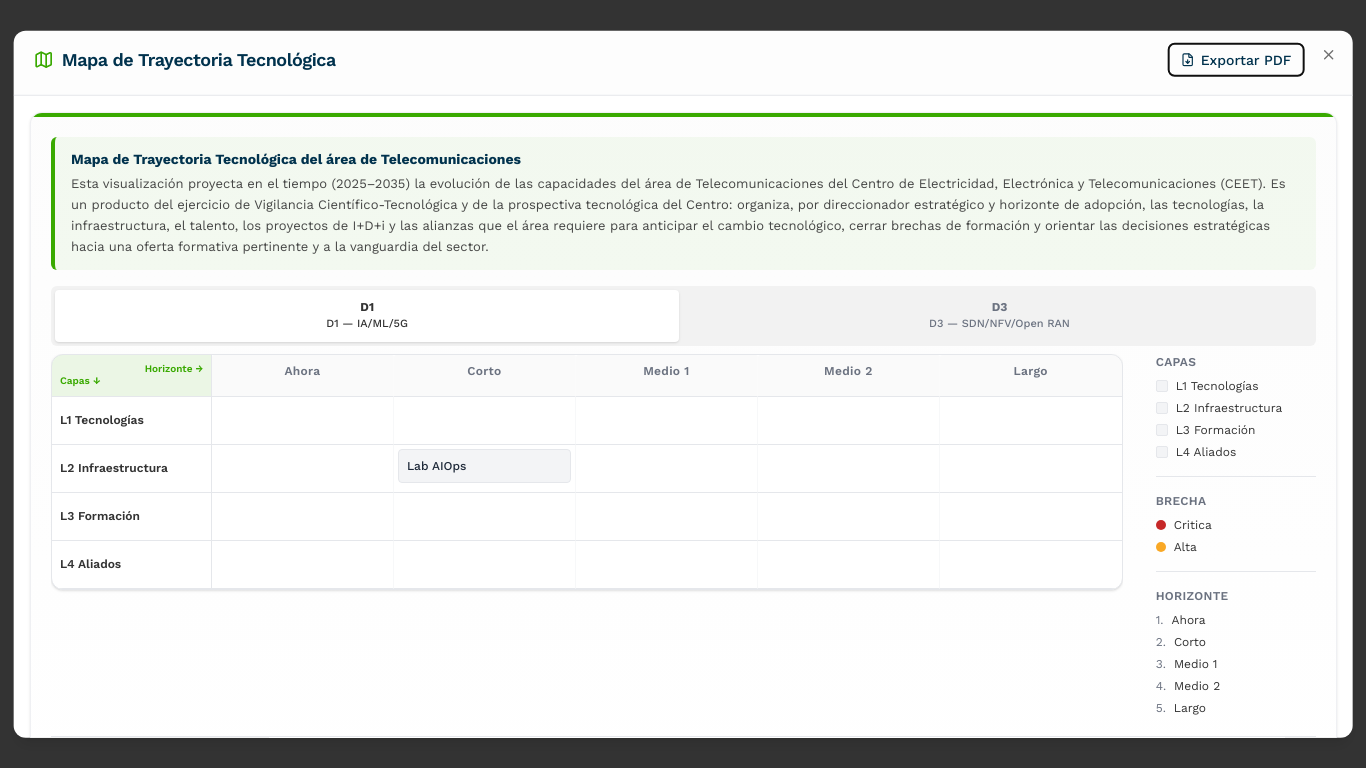
TrajectoryModal › close button inside detail panel hides the panel
What coordinates should you click on to do the following:
click the button "Lab AIOps"
I would click on:
 (484, 465)
Its box is [398, 448, 570, 483].
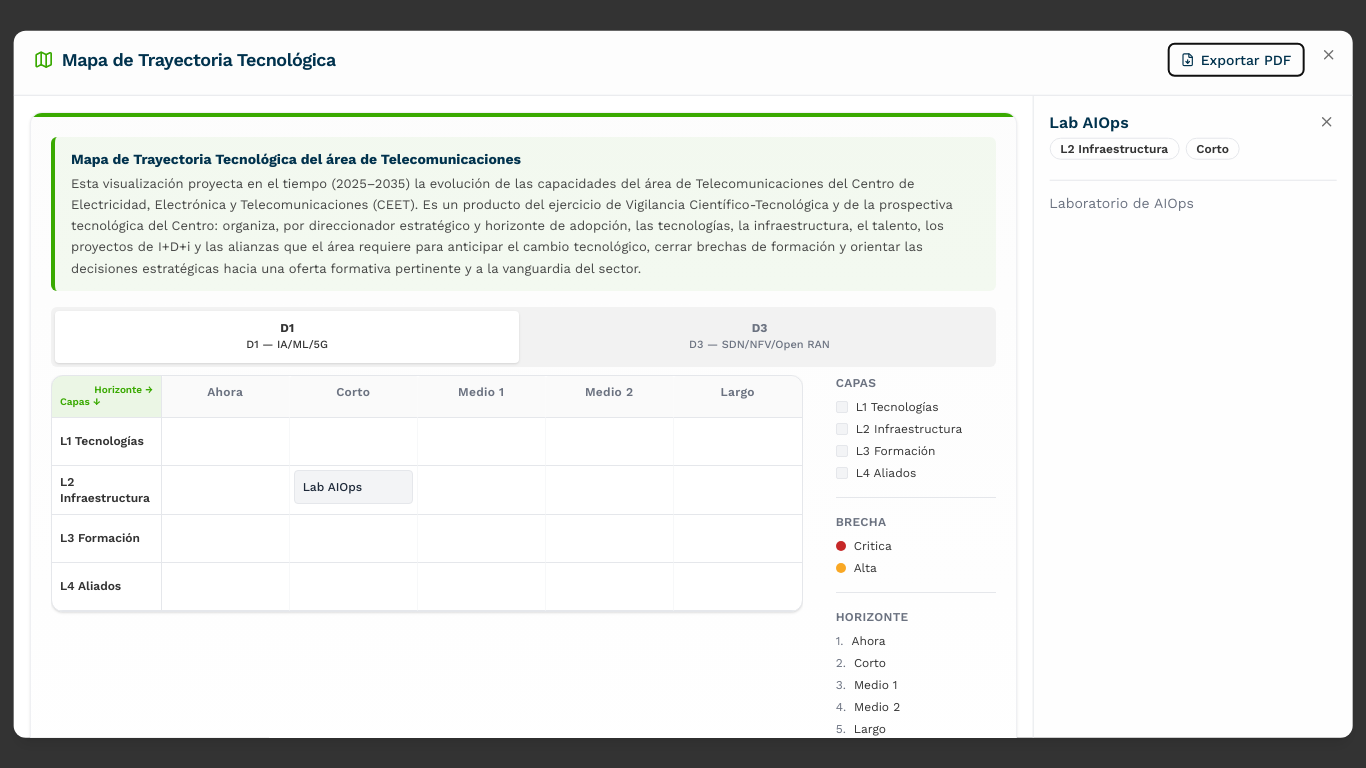
expect the element with test id "trajectory-detail-panel" is shown: met, box [1032, 96, 1352, 737]
Note: The detail close button
What coordinates should you click on to do the following:
click the button named "Cerrar detalle"
I would click on:
 (1326, 122)
Its box is [1316, 112, 1336, 132].
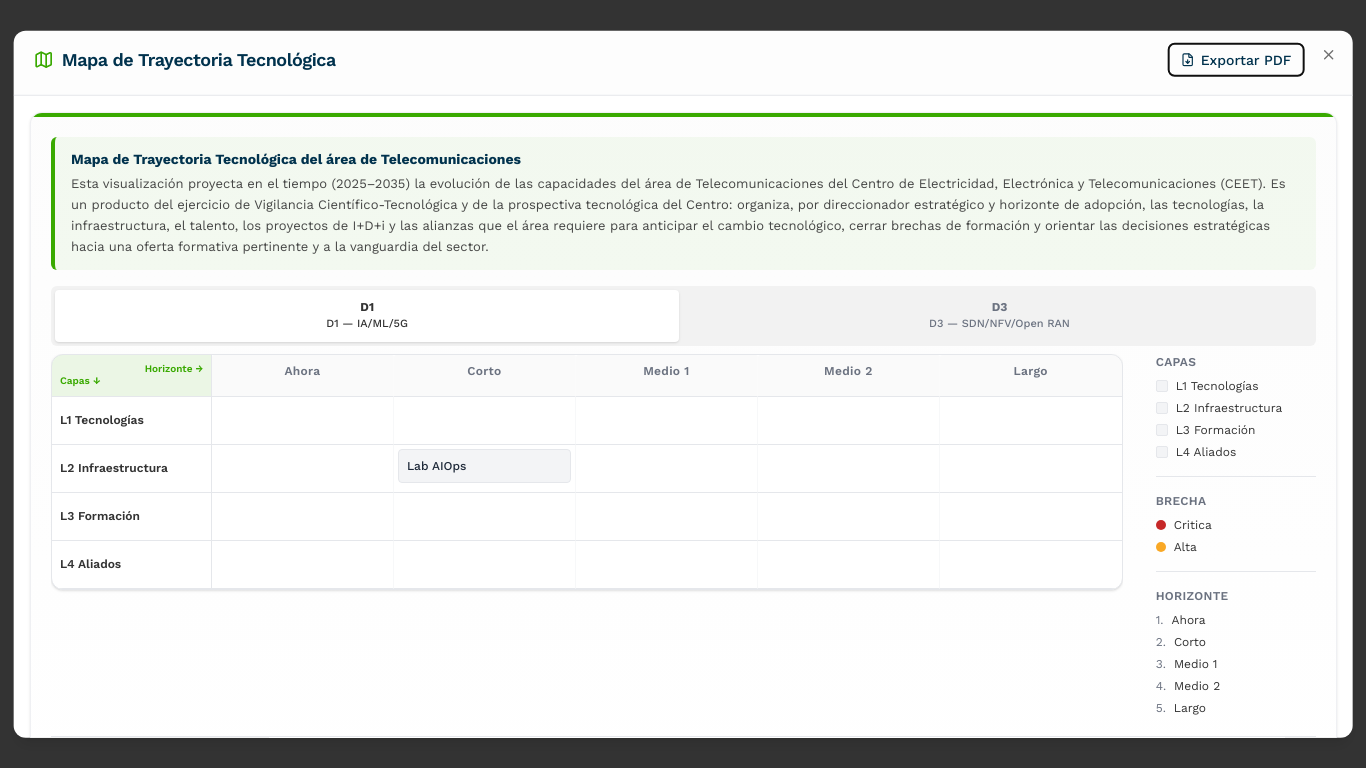
expect the element with test id "trajectory-detail-panel" is gone: met
